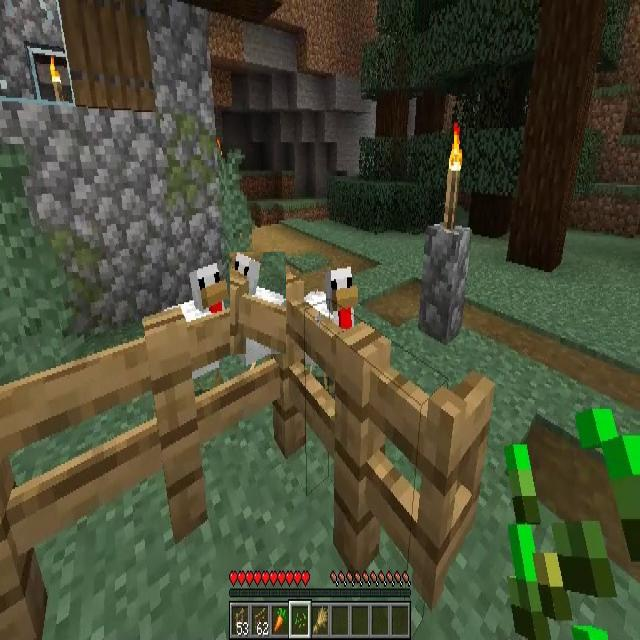duck: (230, 252, 286, 354), (180, 262, 229, 350), (304, 266, 356, 336)
